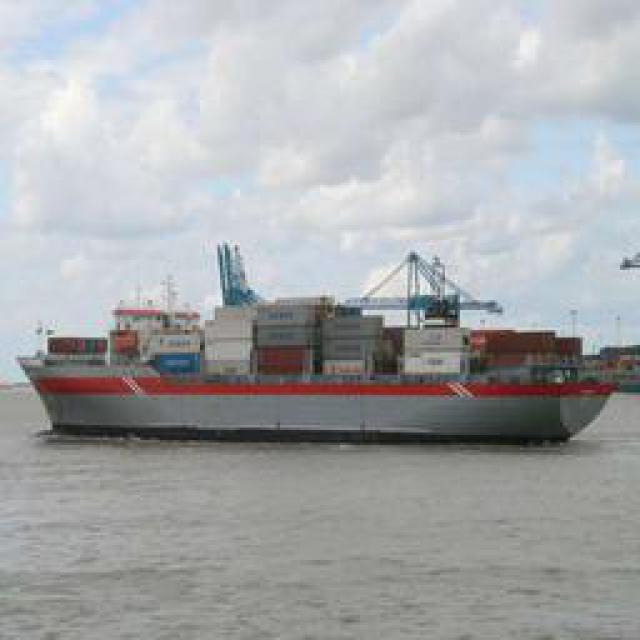Ship: (10, 259, 633, 449)
